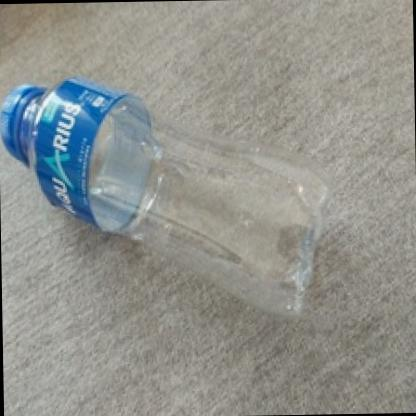plastic_bottles: (0, 63, 332, 323)
